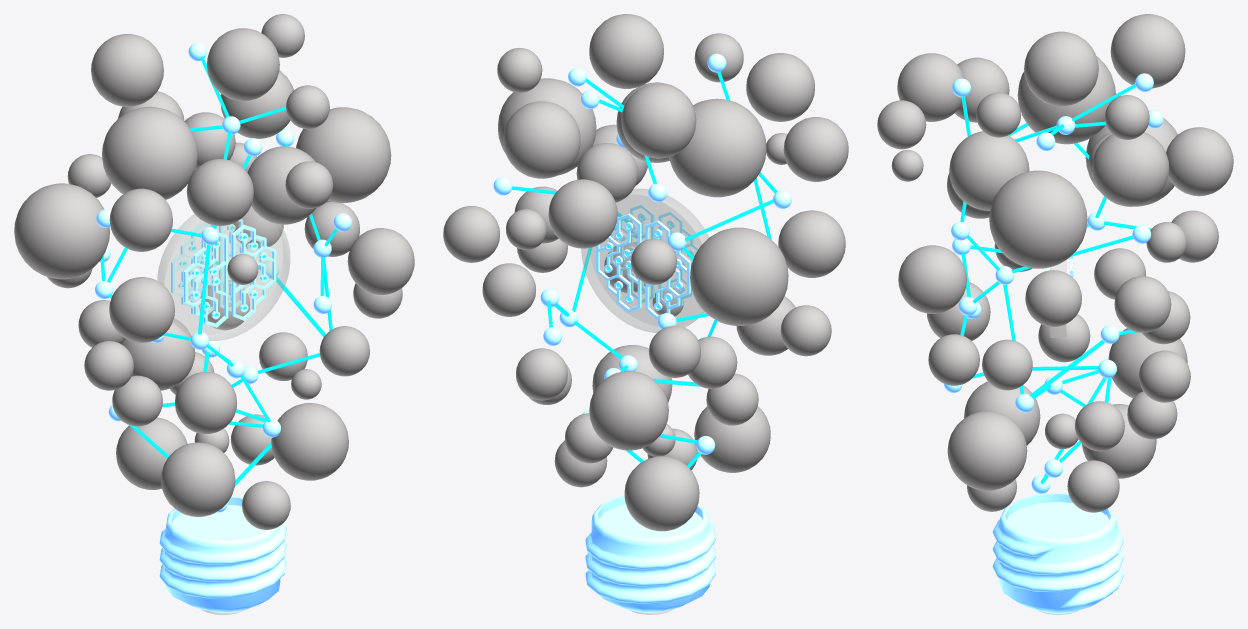
3 views of the same model, side by side, from view 1: azimuth 30°, elevation 25°; view 2: azimuth 150°, elevation 25°; view 3: azimuth 270°, elevation 25° (orthographic). The views are drawn at different scales.
Parts seen in each view (by area): view 1: Cylinder001_2, base, Circle001, Cylinder001_1, Cylinder001, Circle001_4, Circle001_3, Circle001_1; view 2: Cylinder001_2, base, Circle001, Cylinder001_1, Cylinder001, Circle001_4, Circle001_1, Circle001_3; view 3: Cylinder001_2, base, Cylinder001_1, Cylinder001.
Part boxes in pixels (bbox=[...]): Cylinder001_2: bbox=[14, 14, 414, 529]; base: bbox=[159, 496, 286, 614]; Circle001: bbox=[157, 206, 289, 340]; Cylinder001_1: bbox=[95, 43, 351, 512]; Cylinder001: bbox=[100, 56, 337, 486]; Circle001_4: bbox=[183, 224, 276, 327]; Circle001_3: bbox=[171, 222, 215, 317]; Circle001_1: bbox=[219, 219, 263, 311]; Cylinder001_2: bbox=[443, 14, 848, 531]; base: bbox=[585, 495, 715, 614]; Circle001: bbox=[581, 189, 709, 332]; Cylinder001_1: bbox=[493, 53, 791, 454]; Cylinder001: bbox=[512, 72, 777, 467]; Circle001_4: bbox=[609, 204, 698, 309]; Circle001_1: bbox=[596, 213, 641, 312]; Circle001_3: bbox=[645, 220, 690, 319]; Cylinder001_2: bbox=[877, 14, 1233, 512]; base: bbox=[992, 493, 1123, 614]; Cylinder001_1: bbox=[944, 73, 1163, 493]; Cylinder001: bbox=[960, 84, 1151, 483].
Size of the model in its own units: 1.99 by 3.39 by 1.87.
